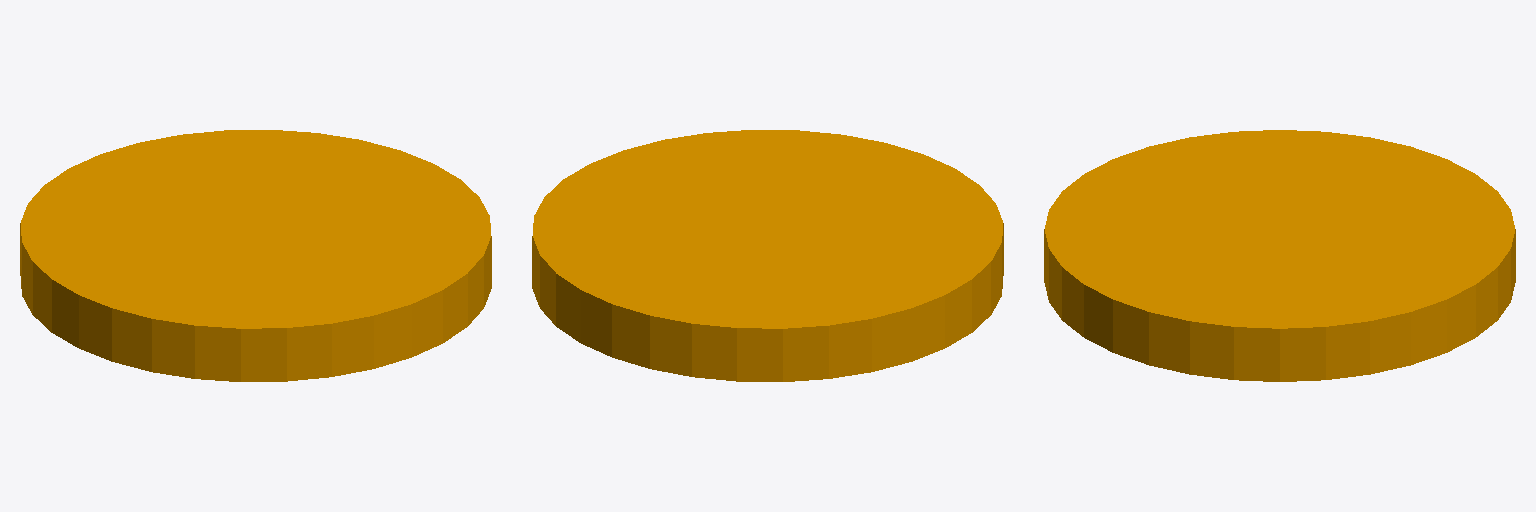
The robot description file, URDF, robot "Holybro_X500_V2":
<?xml version="1.0"?>
<robot name="Holybro_X500_V2">

  <!-- Base Link -->
  <link name="base_link">
    <inertial>
      <mass value="1.692"/> <!-- Mass in kg -->
      
      <!-- Inertia in kg·m² (replace with actual values from Fusion 360 or CAD tool) -->
      <inertia ixx="0.04304" ixy="7.835E-05" ixz="-5.077E-05"
               iyy="0.04288" iyz="3.879E-06" izz="0.06955"/>
    </inertial>

    <visual>
      <geometry>
        <cylinder radius="0.2" length="0.05"/>
      </geometry>
      <material>
        <ambient>0 0.6 1 1</ambient>
        <diffuse>0 0.6 1 1</diffuse>
      </material>
    </visual>

    <collision>
      <geometry>
        <cylinder radius="0.2" length="0.05"/>
      </geometry>
    </collision>

  </link>

  <!-- Center of Mass -->
  <gazebo reference="base_link">
    <center_of_mass>0.002531 -0.000142 -0.022411</center_of_mass> <!-- CoM in meters -->
  </gazebo>

  <!-- Front Left Rotor -->
  <joint name="rotor_front_left_joint" type="revolute">
    <parent link="base_link"/>
    <child link="rotor_front_left"/>
    <axis xyz="0 0 1"/>
    <limit effort="1.0" velocity="10.0"/>
  </joint>

  <link name="rotor_front_left">
    <visual>
      <geometry>
        <cylinder radius="0.15" length="0.02"/> <!-- Adjusted dimensions for the rotor -->
      </geometry>
      <material>
        <ambient>1 0 0 1</ambient> <!-- Red rotor -->
        <diffuse>1 0 0 1</diffuse>
      </material>
    </visual>
  </link>

  <!-- Front Right Rotor -->
  <joint name="rotor_front_right_joint" type="revolute">
    <parent link="base_link"/>
    <child link="rotor_front_right"/>
    <axis xyz="0 0 1"/>
    <limit effort="1.0" velocity="10.0"/>
  </joint>

  <link name="rotor_front_right">
    <visual>
      <geometry>
        <cylinder radius="0.15" length="0.02"/>
      </geometry>
      <material>
        <ambient>0 1 0 1</ambient> <!-- Green rotor -->
        <diffuse>0 1 0 1</diffuse>
      </material>
    </visual>
  </link>

  <!-- Rear Left Rotor -->
  <joint name="rotor_rear_left_joint" type="revolute">
    <parent link="base_link"/>
    <child link="rotor_rear_left"/>
    <axis xyz="0 0 1"/>
    <limit effort="1.0" velocity="10.0"/>
  </joint>

  <link name="rotor_rear_left">
    <visual>
      <geometry>
        <cylinder radius="0.15" length="0.02"/>
      </geometry>
      <material>
        <ambient>0 0 1 1</ambient> <!-- Blue rotor -->
        <diffuse>0 0 1 1</diffuse>
      </material>
    </visual>
  </link>

  <!-- Rear Right Rotor -->
  <joint name="rotor_rear_right_joint" type="revolute">
    <parent link="base_link"/>
    <child link="rotor_rear_right"/>
    <axis xyz="0 0 1"/>
    <limit effort="1.0" velocity="10.0"/>
  </joint>

  <link name="rotor_rear_right">
    <visual>
      <geometry>
        <cylinder radius="0.15" length="0.02"/>
      </geometry>
      <material>
        <ambient>1 1 0 1</ambient> <!-- Yellow rotor -->
        <diffuse>1 1 0 1</diffuse>
      </material>
    </visual>
  </link>

</robot>

--- What the picture shows (computed from the rendered views, not written in the file) ---
The picture shows the robot from 3 angles, left to right: view 1: azimuth 30°, elevation 25°; view 2: azimuth 150°, elevation 25°; view 3: azimuth 270°, elevation 25°; orthographic projection.
Robot: Holybro_X500_V2 — 5 links, 4 joints (4 revolute); root link base_link; default pose: every joint at zero.
Links seen in each view (by area): view 1: base_link; view 2: base_link; view 3: base_link.
Boxes of the visible links, x1,y1,x2,y2 form: base_link: [20, 130, 491, 381]; base_link: [532, 130, 1003, 381]; base_link: [1044, 130, 1515, 381].
Bounding box of the posed robot: 0.4 × 0.4 × 0.05 m (x, y, z).
Geometry: primitives only (box / cylinder / sphere), no mesh files.